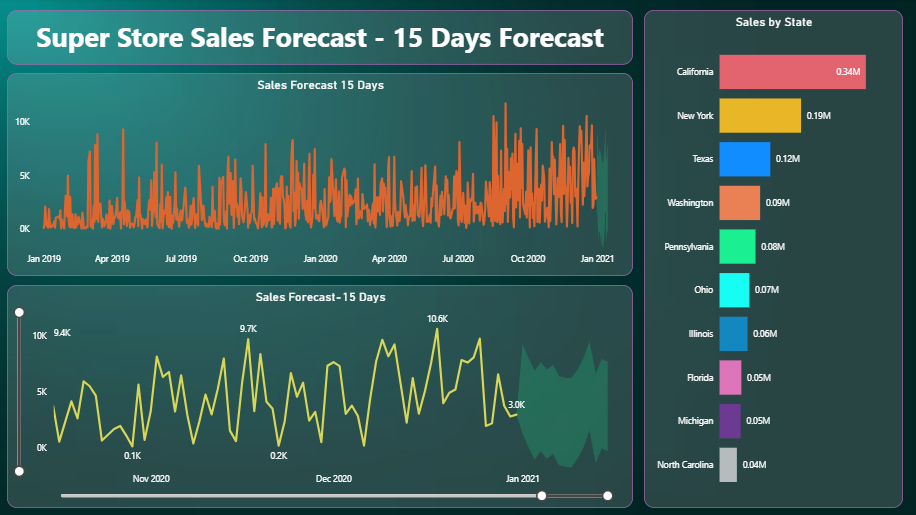

This screenshot's page, from the dashboard's own definition file:
{"tool":"powerbi","page":{"name":"Forecast","canvas":[1280,720],"ordinal":1},"visuals":[{"type":"lineChart","title":"Sales Forecast 15 Days","fields":{"Y":["Sum(Sheet1.Sales)"],"Category":["Sheet1.Order Date"]},"box":[11.1,104.2,870.1,282.2],"z":0},{"type":"lineChart","title":"Sales Forecast-15 Days","fields":{"Y":["Sum(Sheet1.Sales)"],"Category":["Sheet1.Order Date"]},"box":[11.1,398.9,870.1,310],"z":1000},{"type":"barChart","title":"Sales by State","fields":{"Category":["Sheet1.State"],"Y":["Sum(Sheet1.Sales)"]},"box":[896.5,16.7,360,692.2],"z":2000},{"type":"textbox","box":[11.1,16.7,870.1,76.4],"z":3000}]}

Visuals, with their boxes in screenshot pixels (x1, y1, x2, y2), scaled from the page's 1280x720 canvas onto the 916x515 screenshot:
"Sales Forecast 15 Days" lineChart: Rect(8, 75, 631, 276)
"Sales Forecast-15 Days" lineChart: Rect(8, 285, 631, 507)
"Sales by State" barChart: Rect(642, 12, 899, 507)
textbox: Rect(8, 12, 631, 67)
